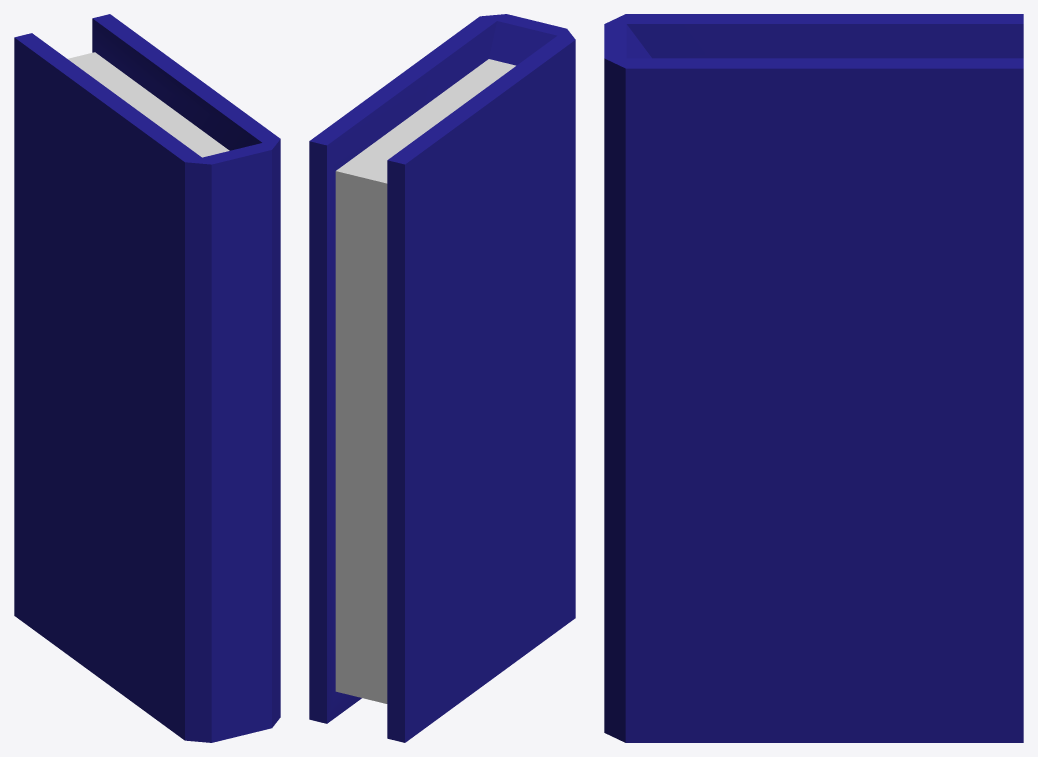
The model's file is misc_book1.fbx.
3 renders of one model, left to right at view 1: azimuth 30°, elevation 25°; view 2: azimuth 150°, elevation 25°; view 3: azimuth 270°, elevation 25°, orthographic. The views are drawn at different scales.
Parts seen in each view (by area): view 1: misc_book1; view 2: misc_book1; view 3: misc_book1.
Part boxes in pixels (<box>): misc_book1: <box>14,14,280,742</box>; misc_book1: <box>309,14,575,742</box>; misc_book1: <box>604,14,1023,742</box>.
Size of the model in its own units: 4.98 by 28.72 by 16.17.
